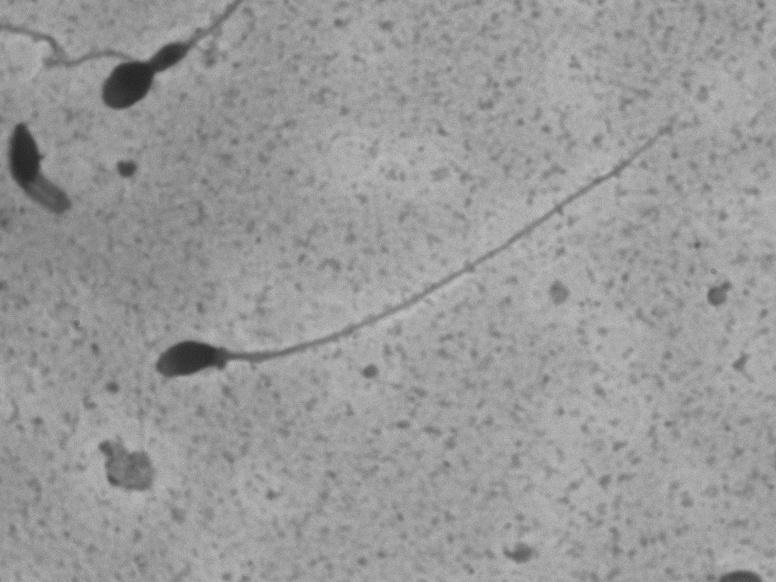Abnormal: (144, 127, 660, 445), (85, 2, 212, 128)
